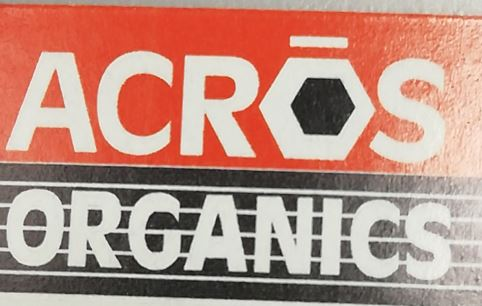AcrosOrganics: (2, 34, 453, 282)
